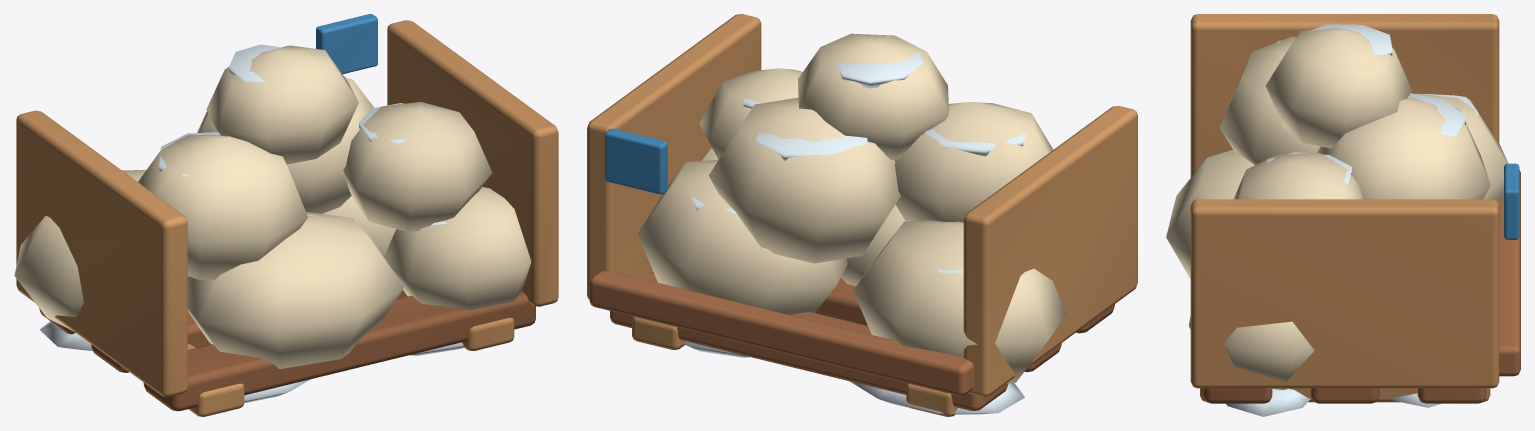
File: stone_stack.glb
3 renders of one model, left to right at view 1: azimuth 30°, elevation 25°; view 2: azimuth 150°, elevation 25°; view 3: azimuth 270°, elevation 25°, orthographic. The views are drawn at different scales.
Visible parts, largest first — view 1: stone_stack; view 2: stone_stack; view 3: stone_stack.
Part boxes in pixels (box(x1,y1,x2,y2)): stone_stack: box(14, 14, 558, 416); stone_stack: box(587, 14, 1137, 416); stone_stack: box(1166, 14, 1520, 416).
Size of the model in its own units: 1.69 by 1.07 by 1.15.
